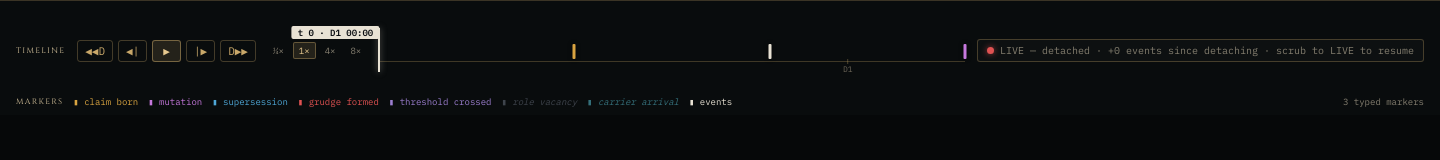
Test: TimelineBar › toggling a legend type off hides that type's markers; toggling it back on shows them again
This screenshot has width=1440, height=160.
Expected: the number of buttons with class "track__event" is 3, 573,44 -> 576,58; 768,44 -> 771,58; 964,44 -> 966,58
Click the link with class "timeline-legend__item" showing "▮ mutation".
click(175, 102)  # box 148,96 -> 202,107
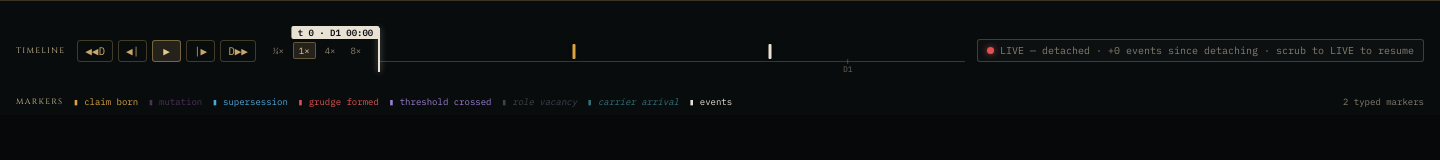
Expected: the number of buttons with class "track__event" is 2, 573,44 -> 576,58; 768,44 -> 771,58
Expected: the text "2 typed markers" is shown, 1343,96 -> 1424,107
Click the link with class "timeline-legend__item" showing "▮ mutation".
click(175, 102)  # box 148,96 -> 202,107
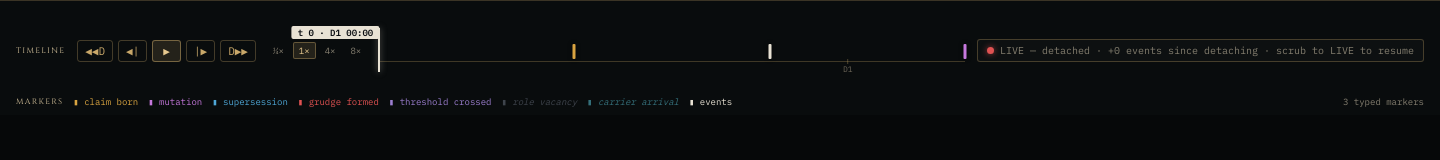
Result: the number of buttons with class "track__event" is 3 at 573,44 -> 576,58; 768,44 -> 771,58; 964,44 -> 966,58
